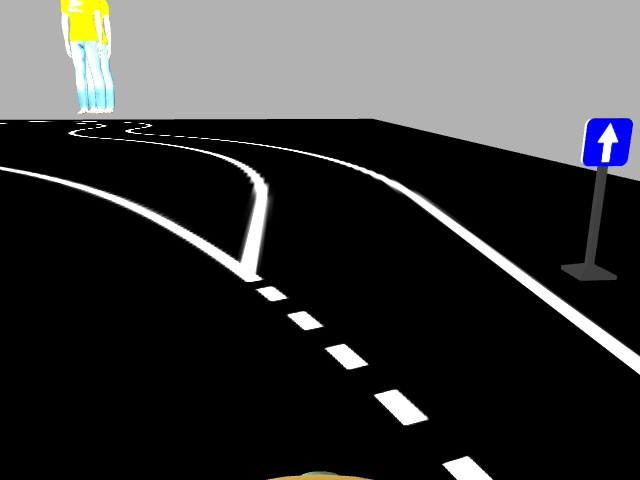OneWay: (582, 117, 630, 164)
